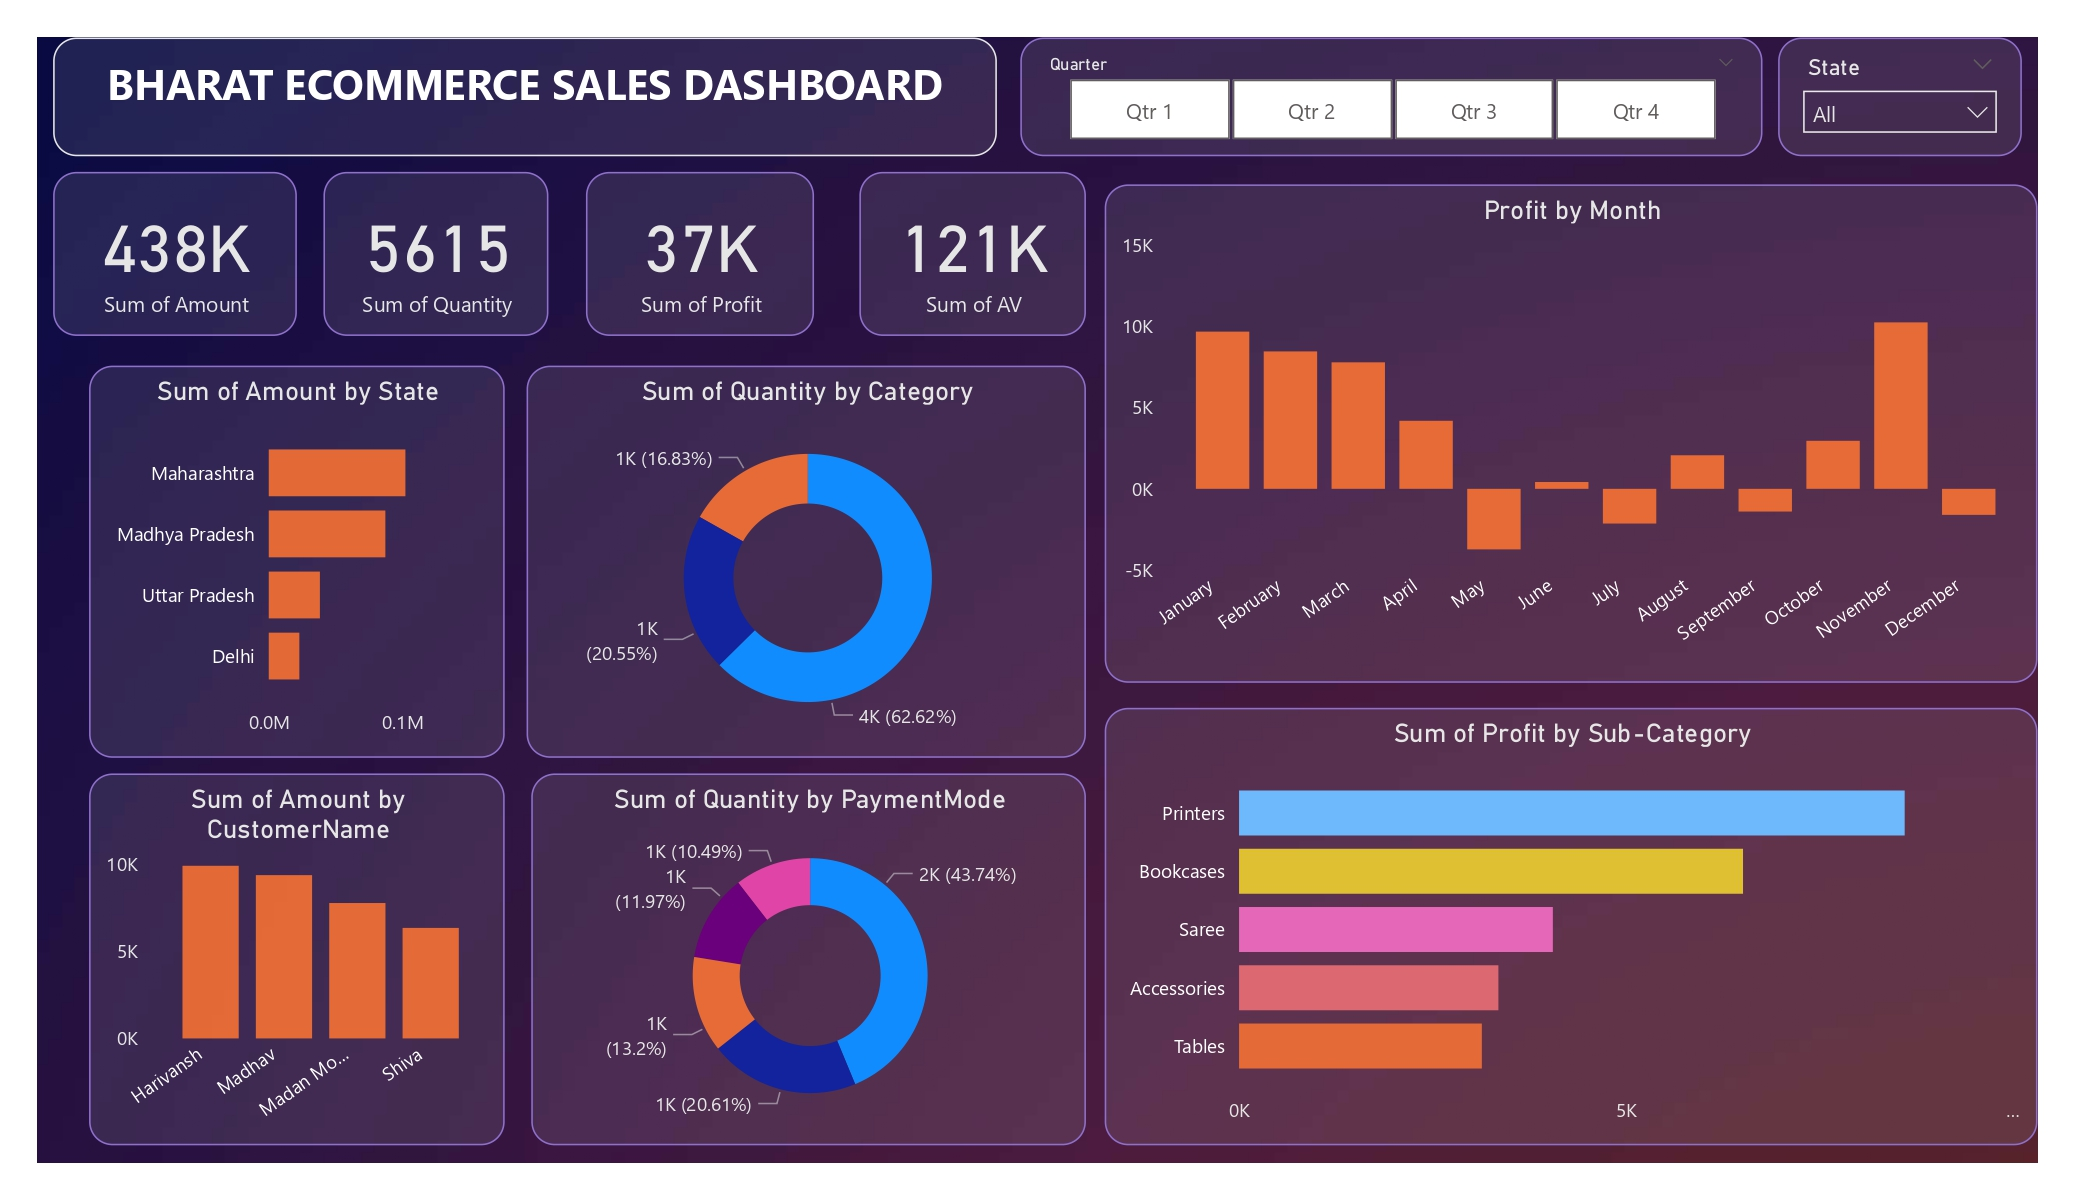

This screenshot's page, from the dashboard's own definition file:
{"tool":"powerbi","page":{"name":"Page 1","canvas":[1280,720],"ordinal":0},"visuals":[{"type":"textbox","box":[10,0,604.3,75.7],"z":0},{"type":"columnChart","title":" Profit by Month","fields":{"Category":["Orders.Order Date.Variation.Date Hierarchy.Month"],"Y":["Details.Profit"]},"box":[682.9,94.3,597.1,318.6],"z":1},{"type":"barChart","fields":{"Category":["Details.Sub-Category"],"Y":["Details.Profit"]},"box":[682.9,428.6,597.1,280],"z":2},{"type":"donutChart","fields":{"Category":["Details.Category"],"Y":["Details.Quantity"]},"box":[312.9,210,358.6,251.4],"z":3},{"type":"donutChart","fields":{"Y":["Details.Quantity"],"Category":["Details.PaymentMode"]},"box":[315.7,471.4,355.7,237.1],"z":4},{"type":"card","fields":{"Values":["Details.Amount"]},"box":[10,85.7,155.7,105.7],"z":5},{"type":"card","fields":{"Values":["Details.Quantity"]},"box":[182.9,85.7,144.3,105.7],"z":6},{"type":"card","fields":{"Values":["Details.Profit"]},"box":[351.4,85.7,145.7,105.7],"z":7},{"type":"card","fields":{"Values":["Details.AV"]},"box":[525.7,85.7,145.7,105.7],"z":8},{"type":"barChart","fields":{"Category":["Orders.State"],"Y":["Details.Amount"]},"box":[32.9,210,265.7,251.4],"z":9},{"type":"columnChart","fields":{"Category":["Orders.CustomerName"],"Y":["Details.Amount"]},"box":[32.9,471.4,265.7,237.1],"z":10},{"type":"slicer","fields":{"Values":["Orders.Order Date.Variation.Date Hierarchy.Quarter"]},"box":[628.6,0,475.7,75.7],"z":11},{"type":"slicer","fields":{"Values":["Orders.State"]},"box":[1114.3,0,155.7,75.7],"z":12}]}

Visuals, with their boxes on the page's 1280x720 design canvas (x1, y1, x2, y2). These are canvas units, not pixel positions in the 2075x1200 screenshot, which may show the page scaled, cropped or inside an application window:
textbox: 10 0 614 76
" Profit by Month" columnChart: 683 94 1280 413
barChart - Details.Sub-Category x Details.Profit: 683 429 1280 709
donutChart - Details.Category x Details.Quantity: 313 210 672 461
donutChart - Details.Quantity x Details.PaymentMode: 316 471 671 708
card - Details.Amount: 10 86 166 191
card - Details.Quantity: 183 86 327 191
card - Details.Profit: 351 86 497 191
card - Details.AV: 526 86 671 191
barChart - Orders.State x Details.Amount: 33 210 299 461
columnChart - Orders.CustomerName x Details.Amount: 33 471 299 708
slicer - Orders.Order Date.Variation.Date Hierarchy.Quarter: 629 0 1104 76
slicer - Orders.State: 1114 0 1270 76
